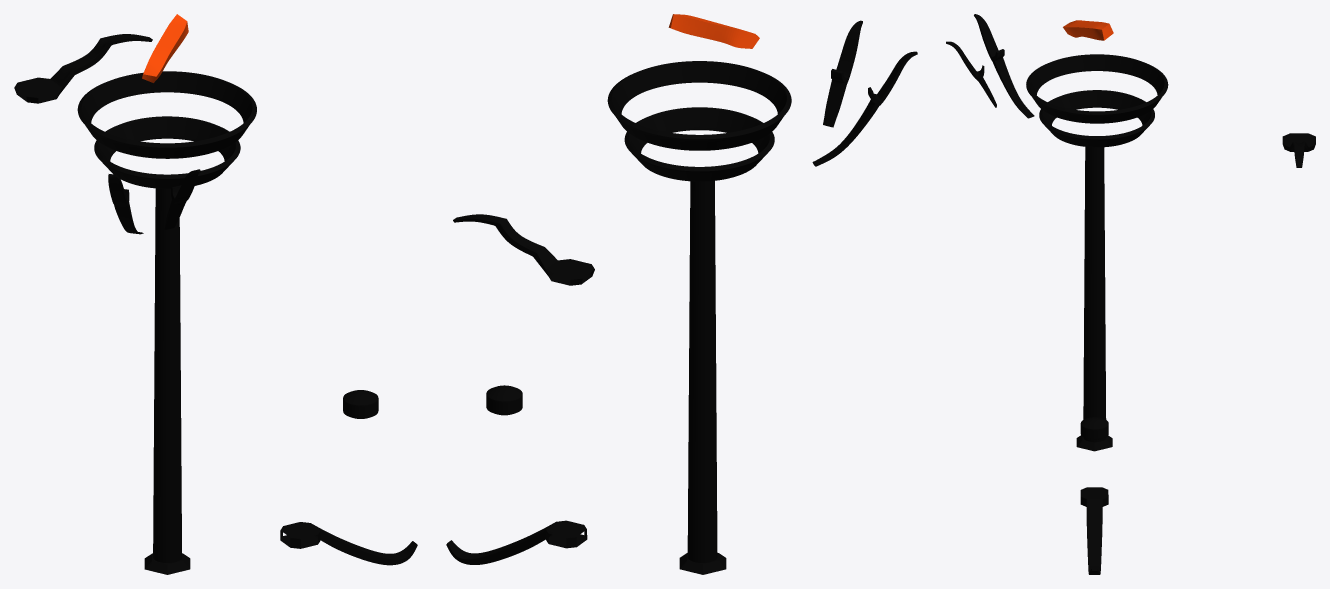
File: Torch_high.fbx
The picture shows the model from 3 angles, left to right: view 1: azimuth 30°, elevation 25°; view 2: azimuth 150°, elevation 25°; view 3: azimuth 270°, elevation 25°; orthographic projection. The views are drawn at different scales.
Parts seen in each view (by area): view 1: Torch; view 2: Torch; view 3: Torch.
Part boxes in pixels (x1,y1,x2,y2): Torch: (14,14,417,574); Torch: (446,14,917,574); Torch: (946,14,1315,574).
Size of the model in its own units: 1376 by 2031 by 1453.
